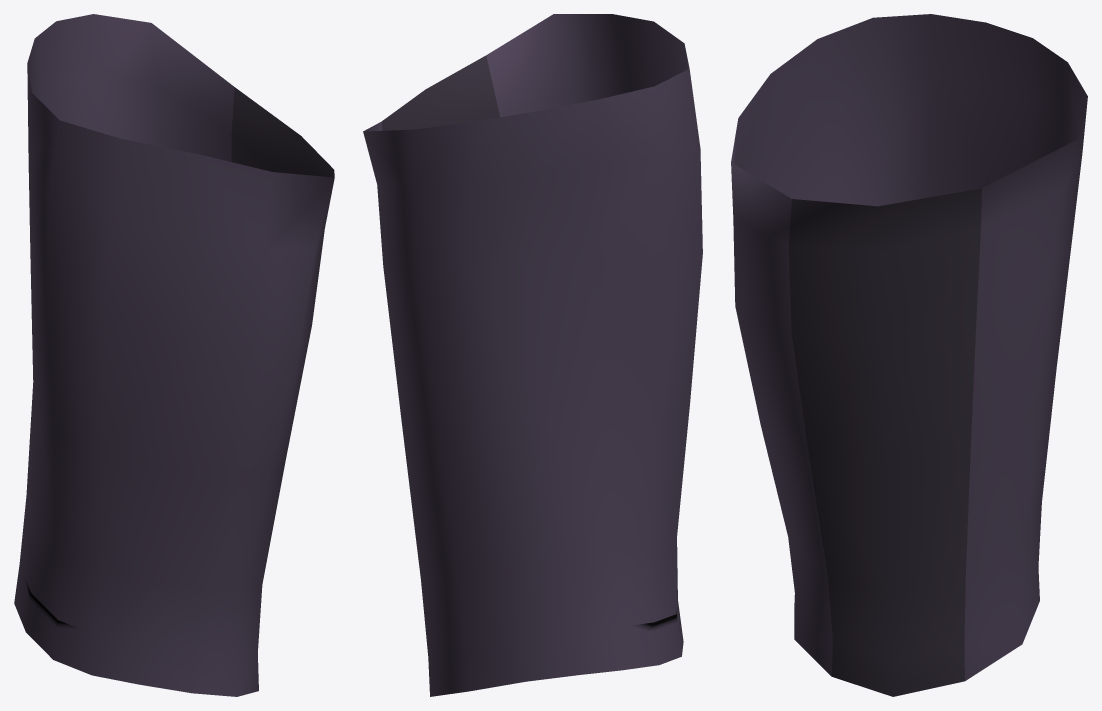
The model's file is Rkenn.obj.
3 views of the same model, side by side, from view 1: azimuth 30°, elevation 25°; view 2: azimuth 150°, elevation 25°; view 3: azimuth 270°, elevation 25° (orthographic). The views are drawn at different scales.
Parts seen in each view (by area): view 1: lknee2:L2_Madara_torso_Plane_011_Blender_Render_Madara_Material; view 2: lknee2:L2_Madara_torso_Plane_011_Blender_Render_Madara_Material; view 3: lknee2:L2_Madara_torso_Plane_011_Blender_Render_Madara_Material.
Boxes of the visible parts, x1,y1,x2,y2 form: lknee2:L2_Madara_torso_Plane_011_Blender_Render_Madara_Material: (14, 14, 334, 696); lknee2:L2_Madara_torso_Plane_011_Blender_Render_Madara_Material: (363, 14, 702, 696); lknee2:L2_Madara_torso_Plane_011_Blender_Render_Madara_Material: (731, 14, 1087, 696).
Bounding box in the file's own units: 0.3972 × 0.9066 × 0.4954.
1 material, 1 textured.
